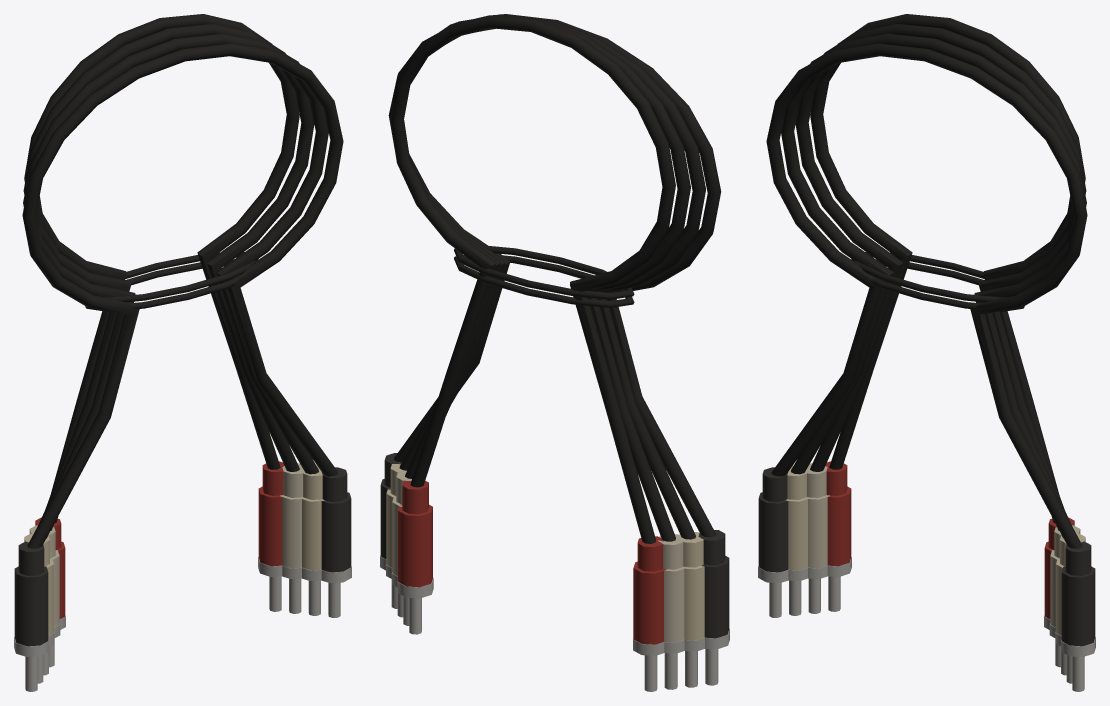
The model's file is cable-coil-small-a03e4785ac77.glb.
3 views of the same model, side by side, from view 1: azimuth 30°, elevation 25°; view 2: azimuth 150°, elevation 25°; view 3: azimuth 330°, elevation 25° (orthographic). The views are drawn at different scales.
Parts seen in each view (by area): view 1: rubber, plastic-dark, brushed, enamel-red, plastic-light, enamel-beige; view 2: rubber, enamel-red, brushed, plastic-dark, plastic-light, enamel-beige; view 3: rubber, plastic-dark, brushed, enamel-red, plastic-light, enamel-beige.
Part boxes in pixels (x1=…): rubber: x1=22, y1=14, x2=343, y2=548; plastic-dark: x1=14, y1=467, x2=351, y2=646; brushed: x1=14, y1=557, x2=351, y2=691; enamel-red: x1=35, y1=461, x2=284, y2=619; plastic-light: x1=29, y1=463, x2=304, y2=627; enamel-beige: x1=24, y1=465, x2=324, y2=635; rubber: x1=388, y1=14, x2=721, y2=543; enamel-red: x1=398, y1=480, x2=666, y2=644; brushed: x1=380, y1=555, x2=729, y2=691; plastic-dark: x1=380, y1=453, x2=729, y2=638; plastic-light: x1=392, y1=470, x2=686, y2=642; enamel-beige: x1=386, y1=464, x2=704, y2=640; rubber: x1=766, y1=14, x2=1087, y2=548; plastic-dark: x1=758, y1=467, x2=1095, y2=646; brushed: x1=758, y1=557, x2=1095, y2=691; enamel-red: x1=825, y1=461, x2=1074, y2=619; plastic-light: x1=805, y1=463, x2=1080, y2=627; enamel-beige: x1=785, y1=465, x2=1085, y2=635.
Size of the model in its own units: 0.1324 by 0.2343 by 0.0268.
